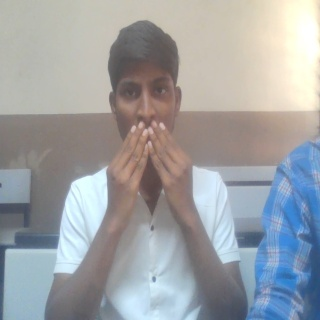Thank You: (103, 121, 200, 232)
